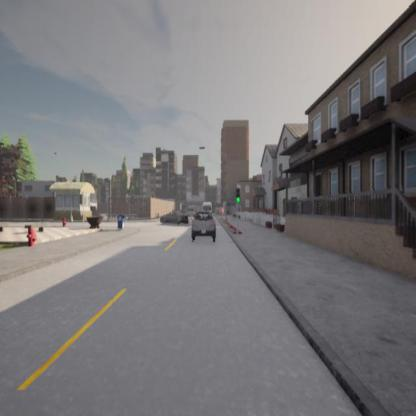traffic_light_green: (236, 187, 240, 202)
vehicle: (191, 212, 217, 240), (159, 211, 186, 225)
